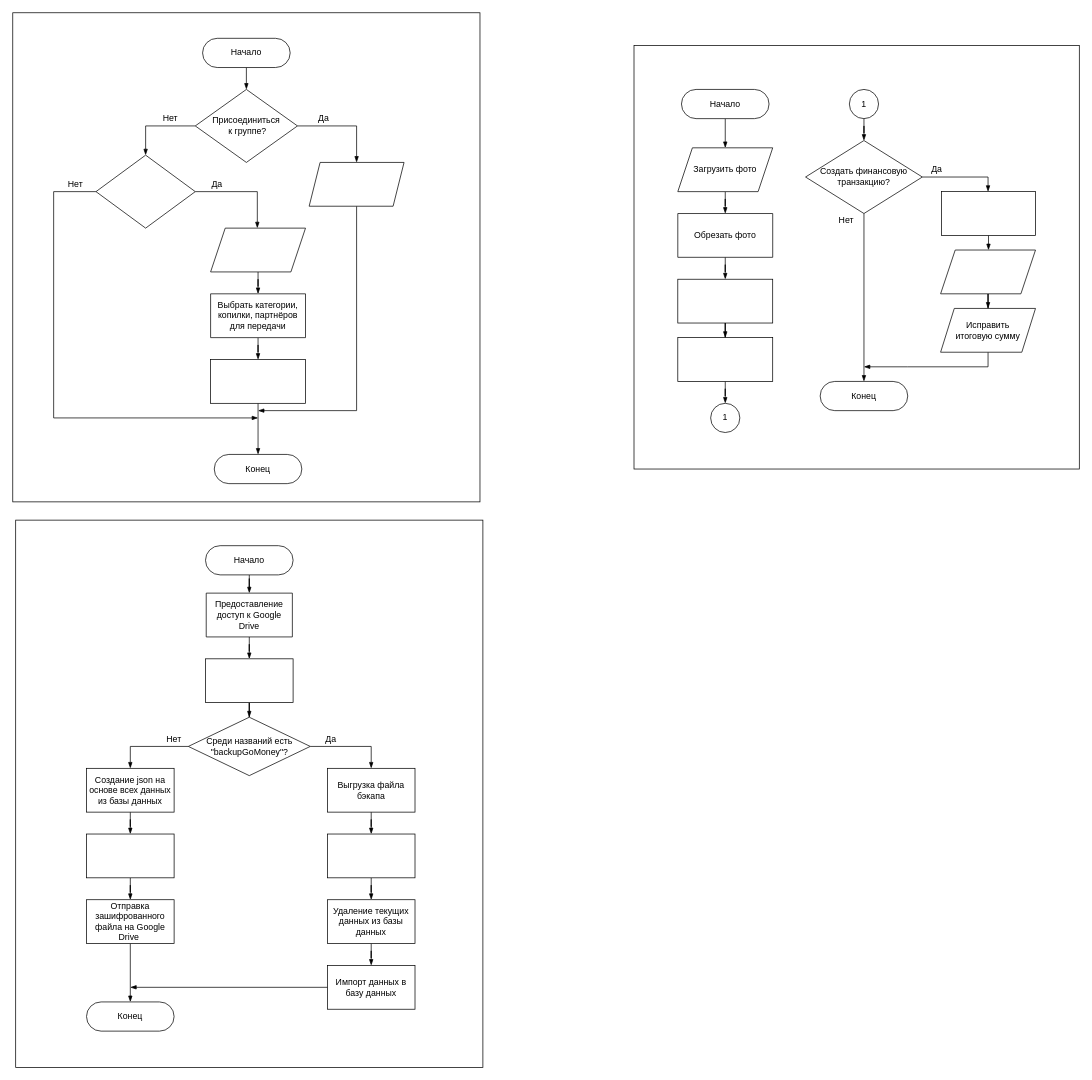
This 1092x1080 diagram has some shape labels left out. Here are the shapes that lost their labels. From the top down, the centre of each, then its label:
At (145,191): "Создать группу?".
At (356,184): "Отсканировать qr-код".
At (988,213): "Обработка текста с помощью регулярного выражения".
At (258,249): "Ввести имя группы".
At (988,271): "Ввести имя транзакции".
At (725,300): "Наложение фильтра threshold".
At (725,359): "Получение текста с картинки с помощью tesseract".
At (258,381): "Генерация qr-кода".
At (249,680): "Выгрузка названий всех файлов из Google Drive".
At (130,855): "Шифрование json".
At (371,855): "Расшифровка данных".
